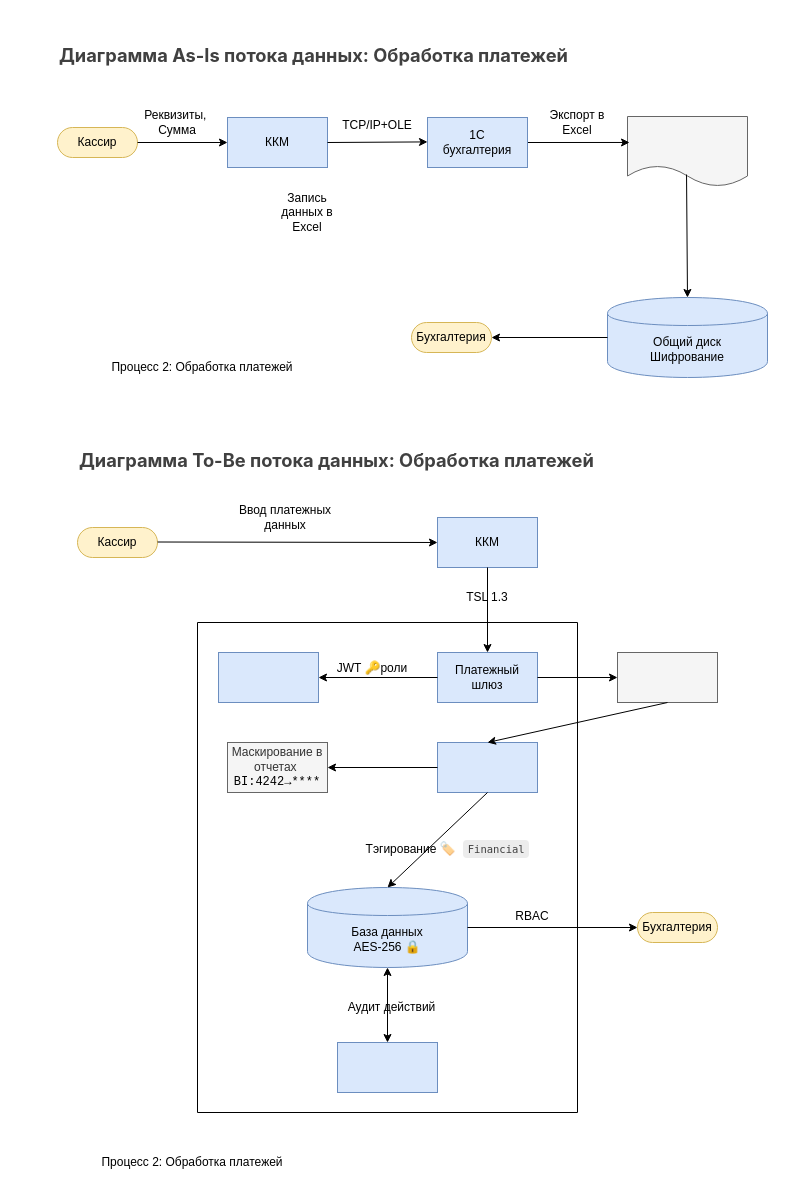
Image size: 785x1194. Some labels were removed from this diagram. The centre of each missing label's shape, as x and y in pixels:
"1C Бухгалтерия" belongs at point 487,767.
"ELK 📝 Sputnik/Grafana" belongs at point 387,1067.
"Keycloak" belongs at point 268,677.
"XLS файл Платеж, реквизиты" belongs at point 687,151.
"Обфускация реквизитов" belongs at point 667,677.
